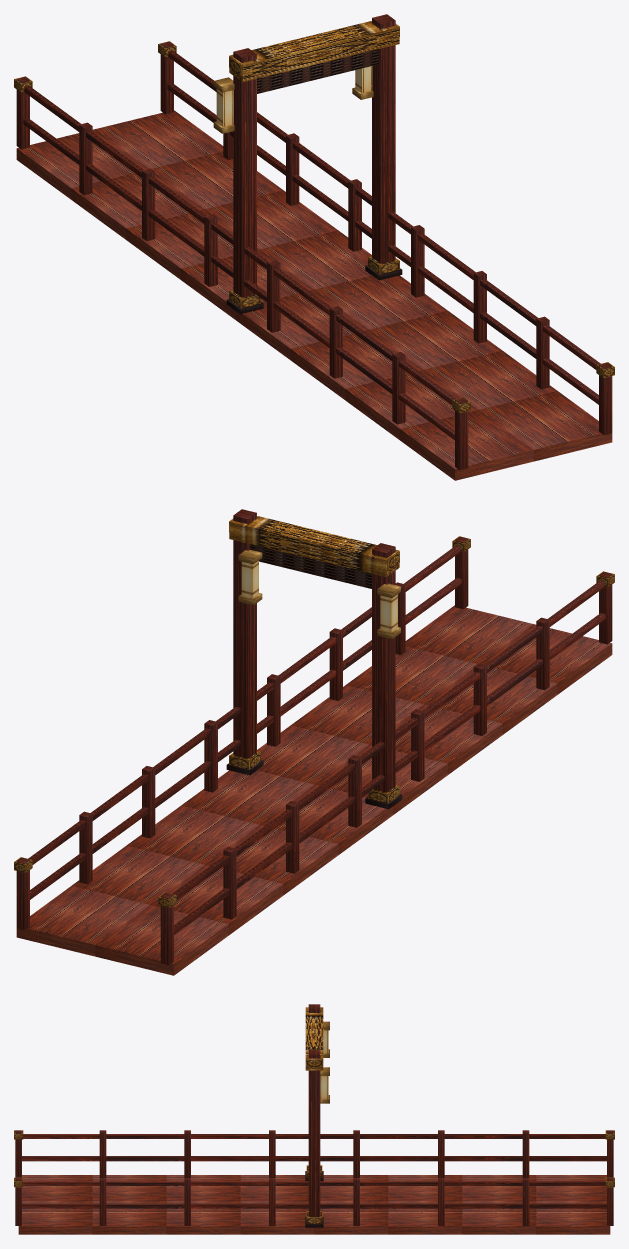
The model's file is Path.fbx.
3 views of the same model, one above another, from view 1: azimuth 30°, elevation 25°; view 2: azimuth 150°, elevation 25°; view 3: azimuth 270°, elevation 25° (orthographic). The views are drawn at different scales.
Visible parts, largest first — view 1: Retopo_Path.001; view 2: Retopo_Path.001; view 3: Retopo_Path.001.
Part boxes in pixels (<box>): Retopo_Path.001: <box>14,14,614,480</box>; Retopo_Path.001: <box>14,509,614,975</box>; Retopo_Path.001: <box>14,1004,614,1234</box>.
Bounding box in the file's own units: 260 × 387 × 1178.
